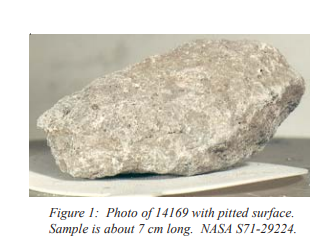Breccia: (29, 32, 300, 182)
